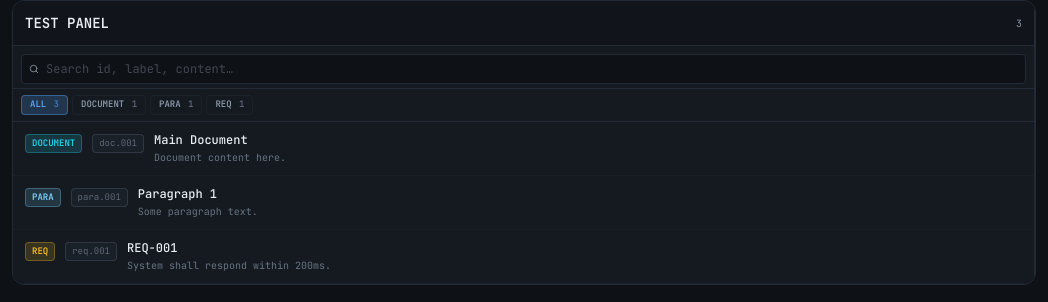
Scenario: NodeTablePanel — TypeChips filter › filters rows when a type chip is clicked
Click the button "REQ 1" at coordinates (230, 105), box [206, 95, 254, 114]
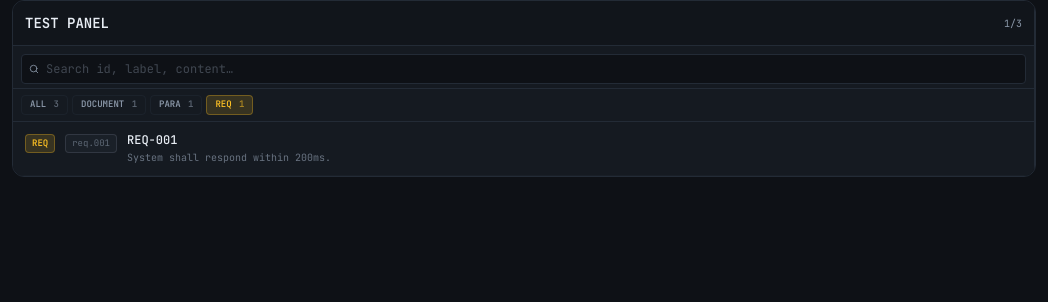
expect the text "REQ-001" is shown: met, box [127, 132, 177, 148]
expect the button "Main Document" is gone: met
expect the button "Paragraph 1" is gone: met
